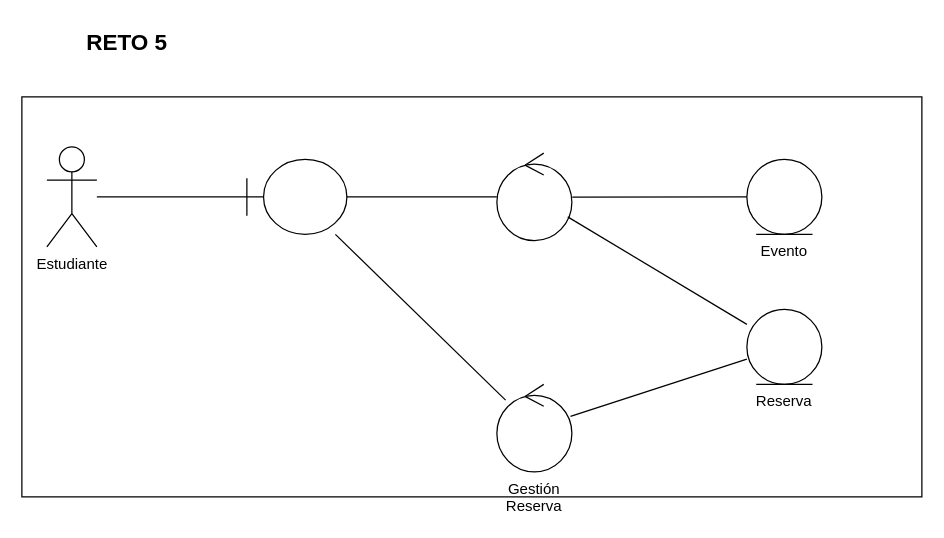
Some shapes in this 944 by 538 pixel diagram are drawn without their labels. Each missing label, with the box of its shape:
CalcularDisponibilidad: (496, 152, 572, 241)
Pantalla Evento: (246, 158, 347, 234)
